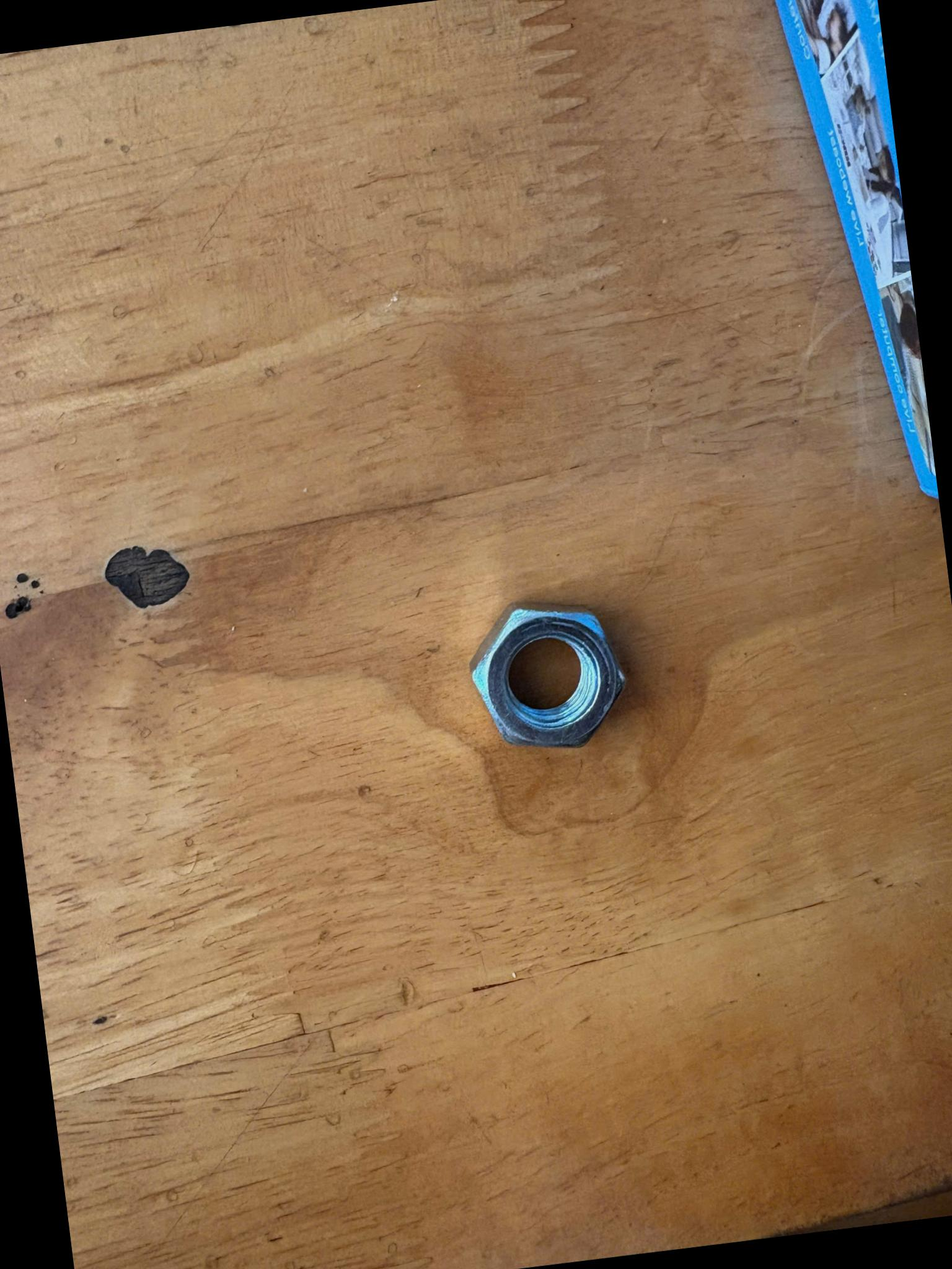nut: (445, 590, 641, 780)
